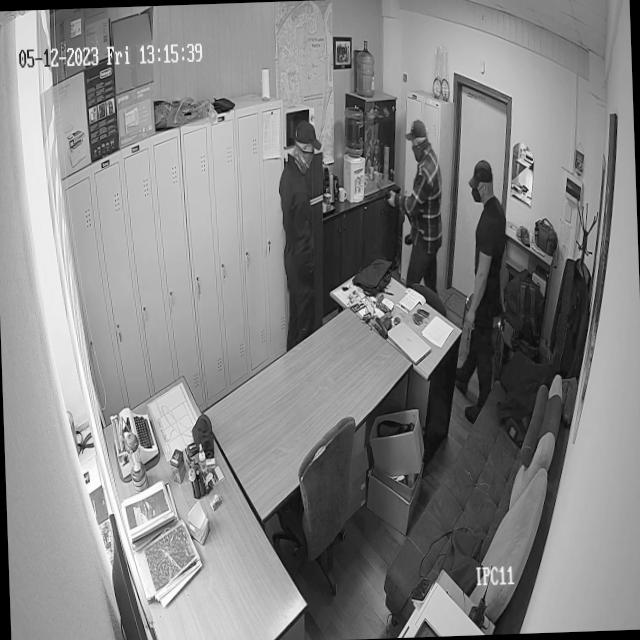gun: (374, 181, 416, 248), (498, 292, 509, 348)
person: (278, 126, 324, 340)
person with a gun: (442, 160, 514, 428), (374, 148, 439, 306)
